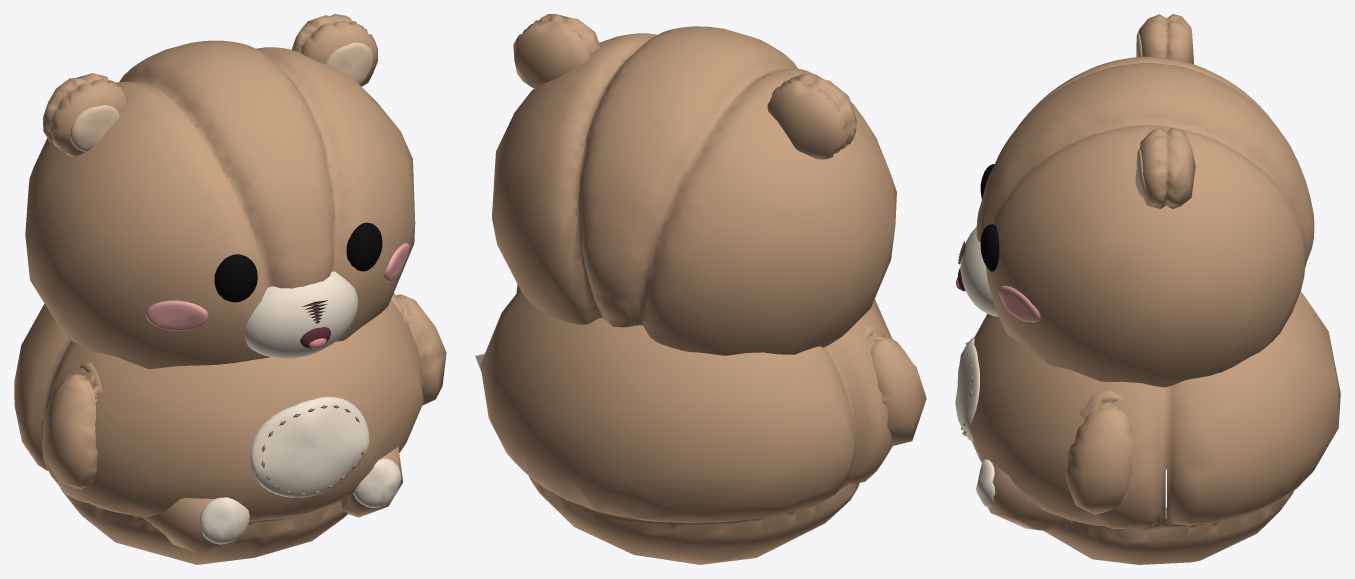
The model's file is bear.glb.
The picture shows the model from 3 angles, left to right: view 1: azimuth 30°, elevation 25°; view 2: azimuth 150°, elevation 25°; view 3: azimuth 270°, elevation 25°; orthographic projection. The views are drawn at different scales.
Parts seen in each view (by area): view 1: Head, Body, Belly, Muzzle, ArmR, EarR, EarL, ArmL, LegR, PadR, EyeR, PadL (+6 smaller); view 2: Head, Body, EarR, EarL, ArmR; view 3: Head, Body, ArmL, EarL, LegL, EarR, Muzzle, Belly, CheekL, EyeL, PadL.
Boxes of the visible parts, left/top/right/bottom form: Head: left=25, top=40, right=415, bottom=369; Body: left=14, top=299, right=423, bottom=564; Belly: left=250, top=396, right=369, bottom=497; Muzzle: left=244, top=271, right=358, bottom=358; ArmR: left=42, top=363, right=102, bottom=489; EarR: left=43, top=73, right=128, bottom=156; EarL: left=292, top=14, right=377, bottom=86; ArmL: left=391, top=293, right=446, bottom=405; LegR: left=141, top=498, right=241, bottom=554; PadR: left=200, top=497, right=249, bottom=544; EyeR: left=214, top=254, right=257, bottom=302; PadL: left=353, top=458, right=401, bottom=507; Head: left=492, top=26, right=896, bottom=355; Body: left=480, top=289, right=892, bottom=564; EarR: left=767, top=74, right=856, bottom=159; EarL: left=513, top=14, right=599, bottom=89; ArmR: left=864, top=326, right=926, bottom=445; Head: left=976, top=56, right=1314, bottom=387; Body: left=969, top=292, right=1340, bottom=564; ArmL: left=1066, top=390, right=1134, bottom=514; EarL: left=1140, top=128, right=1195, bottom=209; LegL: left=986, top=459, right=1062, bottom=530; EarR: left=1139, top=14, right=1193, bottom=64; Muzzle: left=960, top=227, right=998, bottom=316; Belly: left=955, top=337, right=979, bottom=441; CheekL: left=998, top=285, right=1040, bottom=322; EyeL: left=980, top=224, right=999, bottom=271; PadL: left=976, top=459, right=995, bottom=507.
Bounding box in the file's own units: 1.42 × 1.63 × 1.23.
